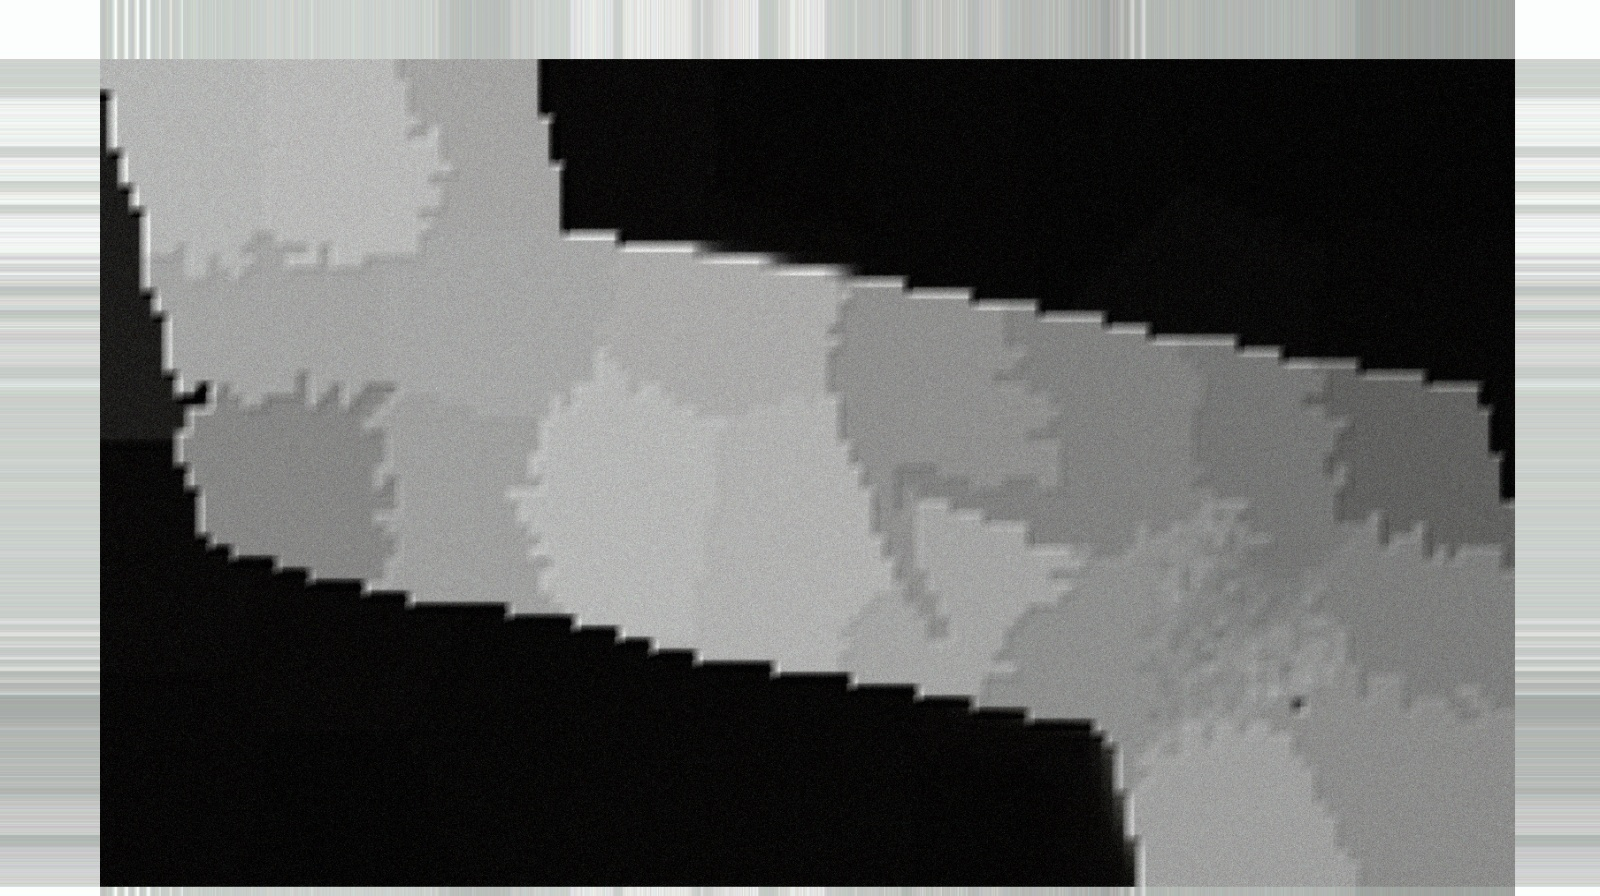S001: (890, 377, 1168, 628)
S002: (701, 339, 1059, 663)
